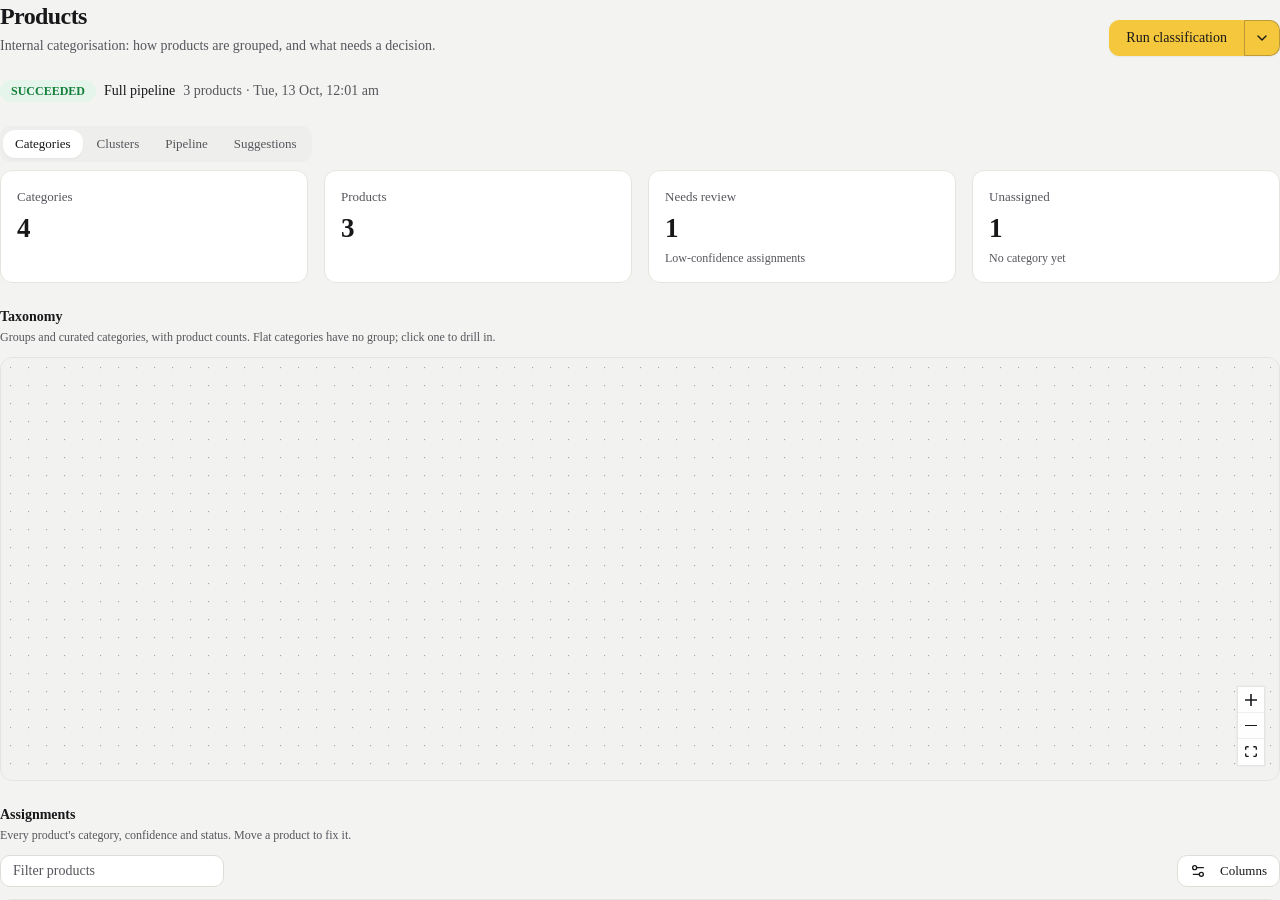
Scenario: ProductsPage › shows the empty state when there are no suggestions
Press the mouse on the tab "Suggestions" at (265, 144), box [222,130,309,158]
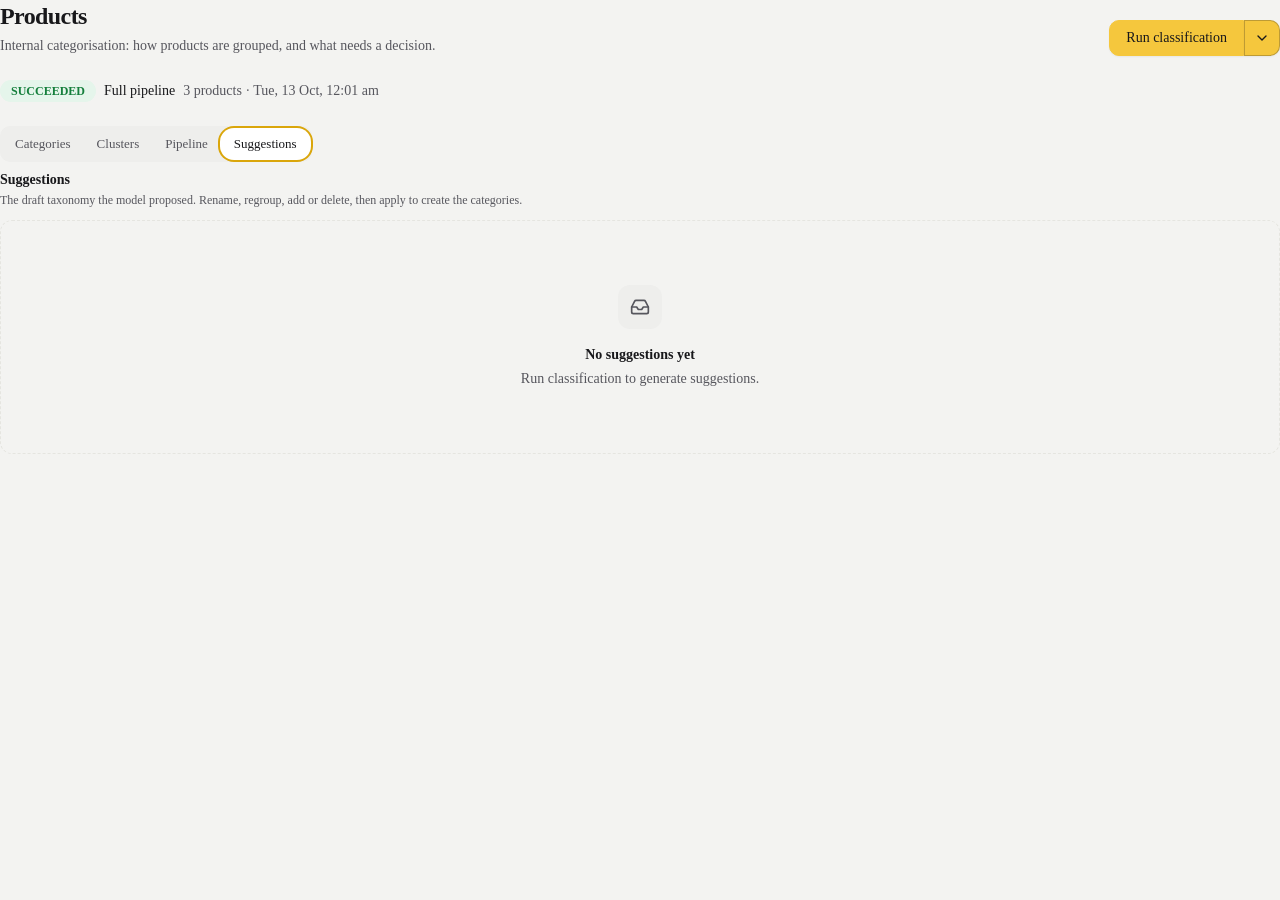
Expected: the text "Run classification to generate suggestions." is shown, [521,369,759,389]
